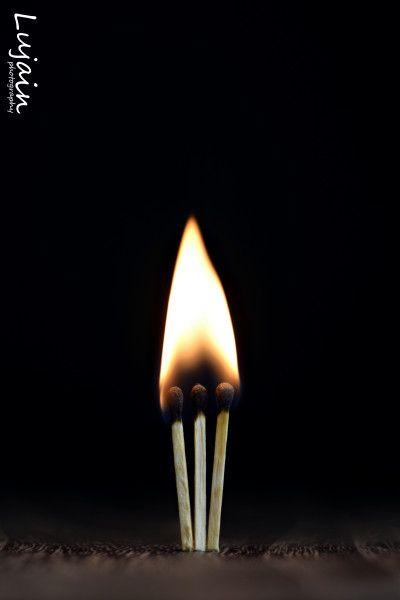Fire: (142, 209, 250, 420)
